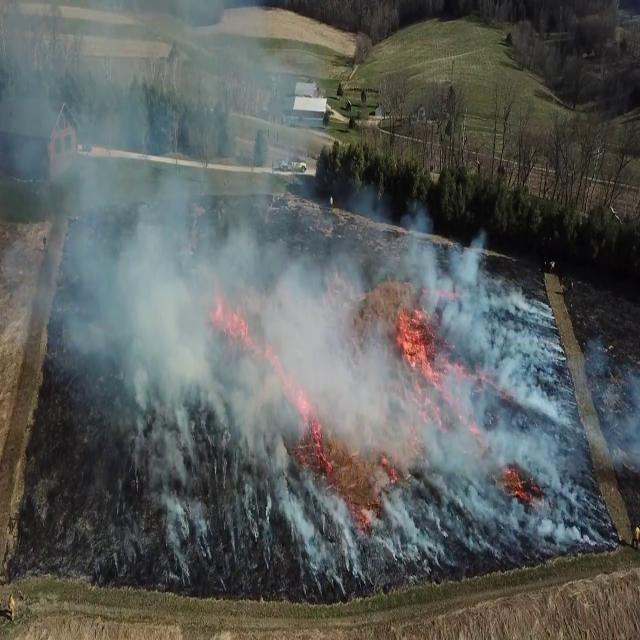Smoke: (1, 3, 502, 533)
